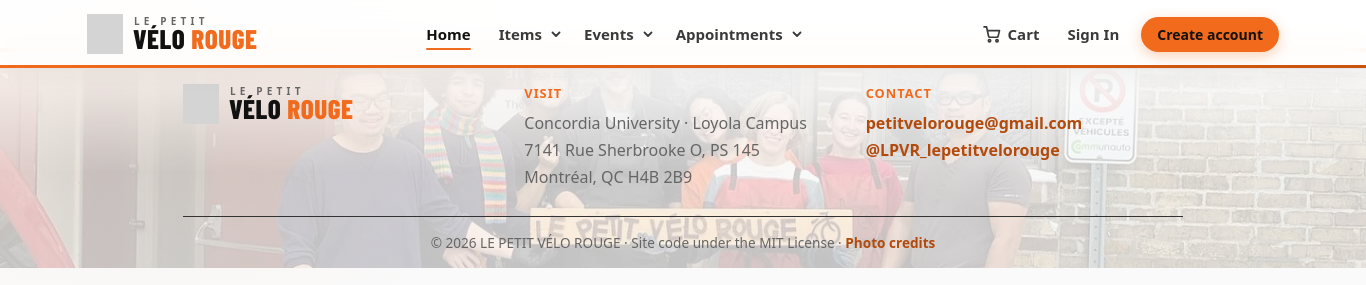
it: shared layout › opens and closes sub-menus and the mobile menu with their buttons and Escape
Later steps or results of the test are not shown.
Step 1. Click the button named "Items menu" → (556, 34), box [544,22,568,46]
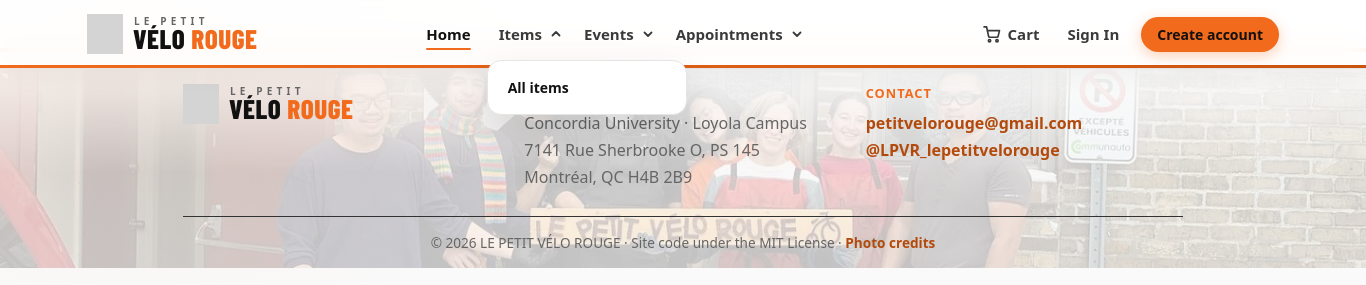
Check: the button named "Items menu" is expanded, box [544,22,568,46]
Step 2. Press Escape
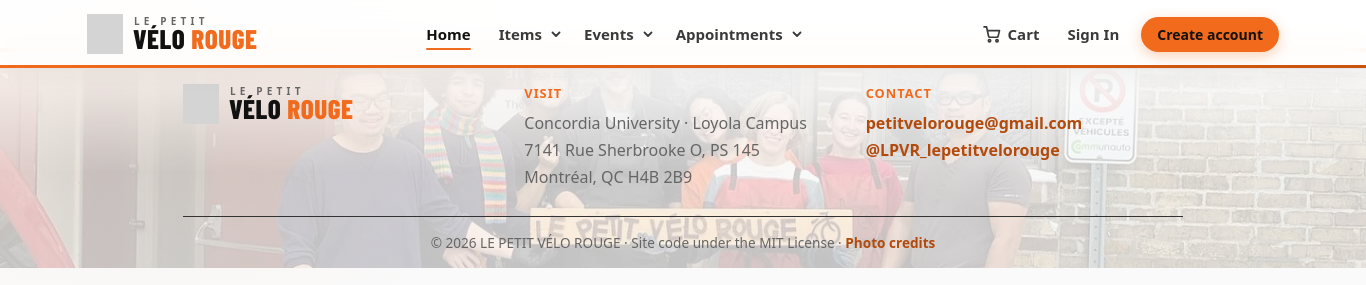
Check: the button named "Items menu" is collapsed, box [544,22,568,46]
